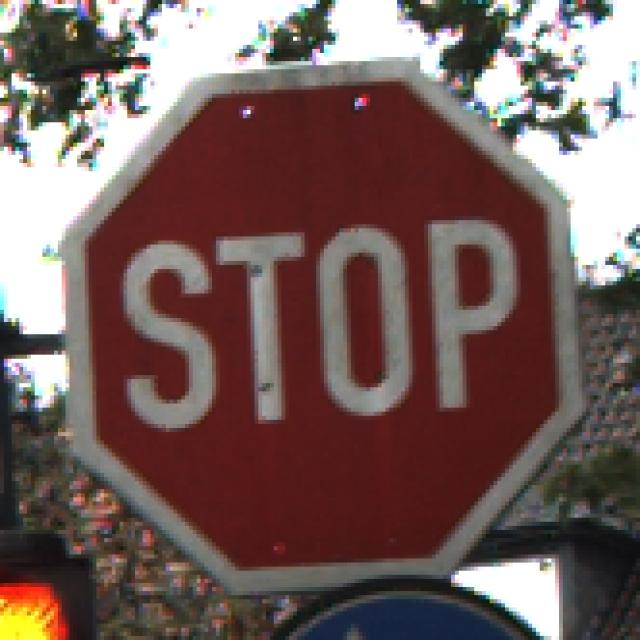STOP: (59, 58, 583, 588)
